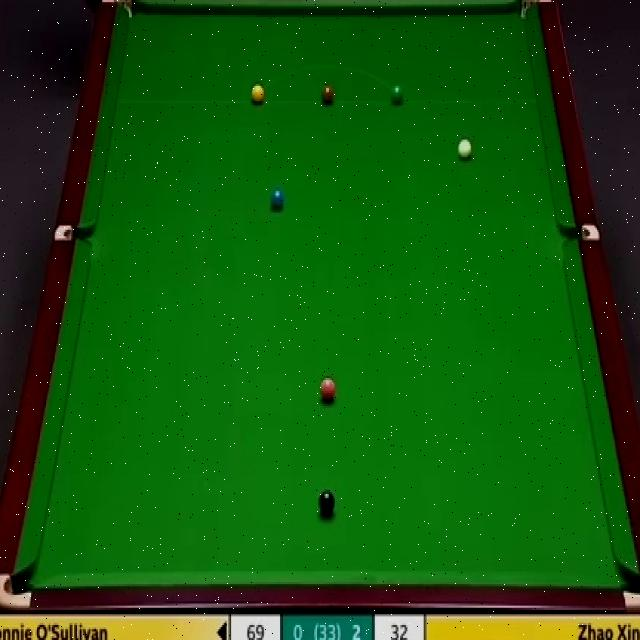black-ball: (317, 488, 336, 517)
blue-ball: (270, 188, 284, 210)
brown-ball: (320, 82, 335, 105)
green-ball: (388, 84, 404, 105)
pink-ball: (318, 377, 336, 402)
white-ball: (458, 138, 472, 161)
yellow-ball: (250, 81, 265, 104)
